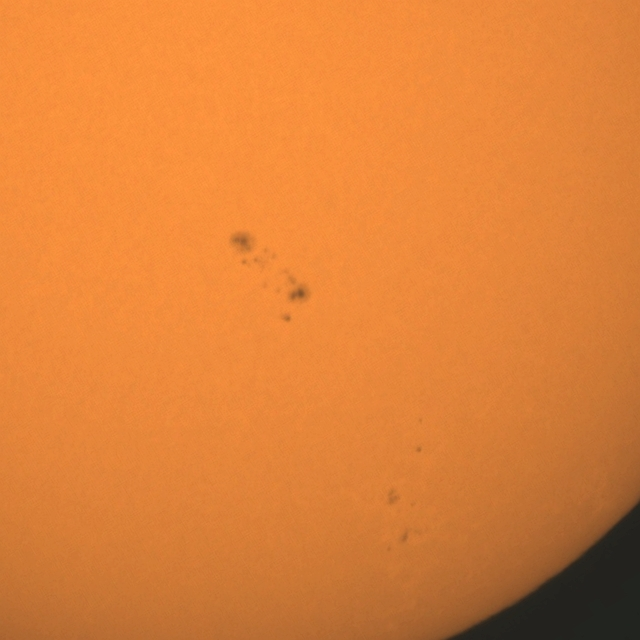sunspot: (230, 229, 278, 271), (273, 266, 310, 306), (385, 487, 402, 507), (399, 530, 410, 545), (280, 312, 292, 324), (415, 445, 423, 454)
